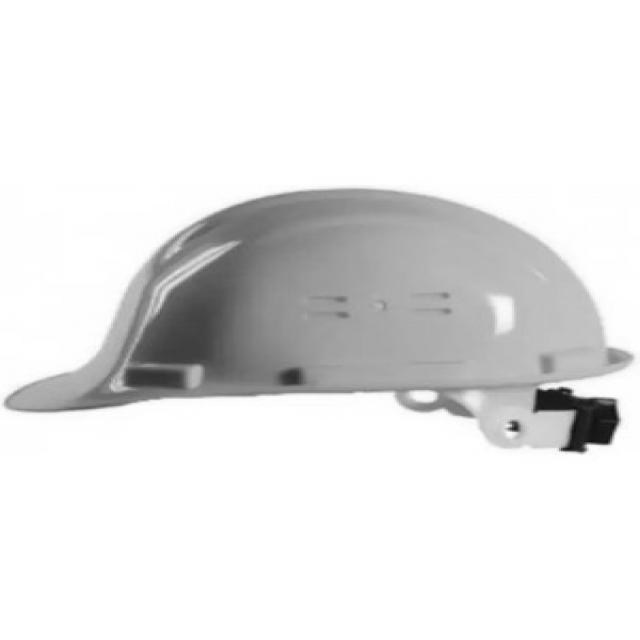safety_helmet: (6, 189, 634, 415)
